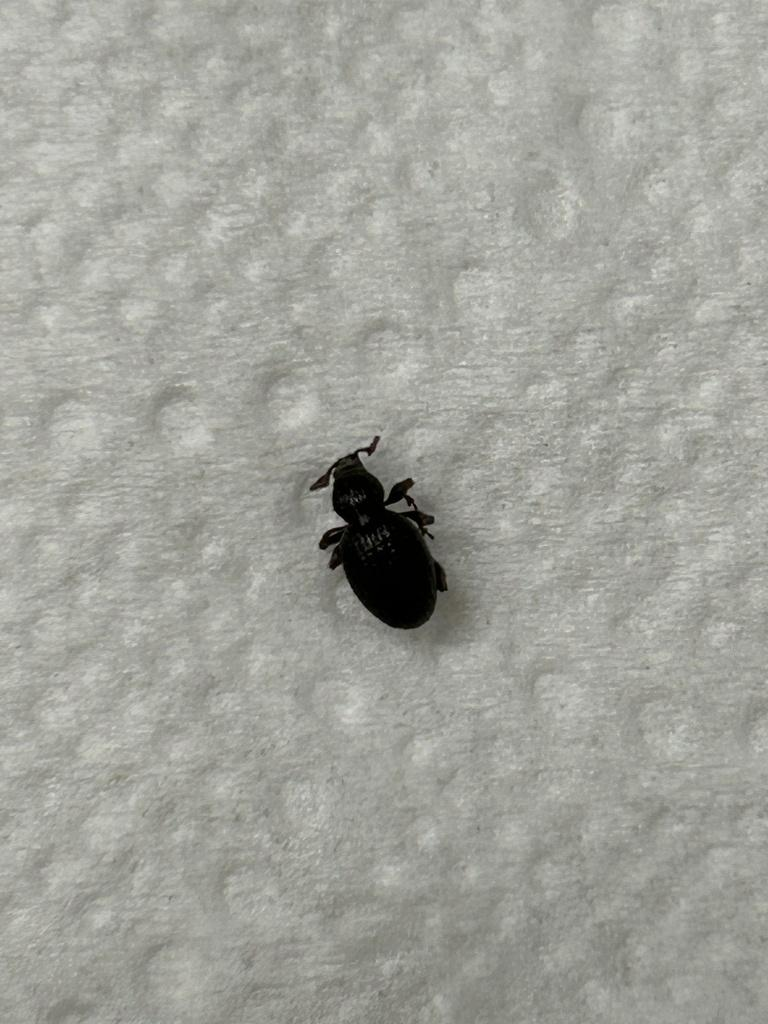weevils: (233, 339, 513, 699)
